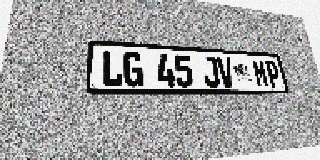4: (157, 53, 176, 87)
5: (174, 55, 194, 87)
G: (123, 51, 144, 87)
J: (201, 56, 220, 87)
L: (102, 50, 123, 87)
M: (252, 59, 270, 87)
P: (264, 60, 282, 88)
V: (216, 57, 235, 87)
